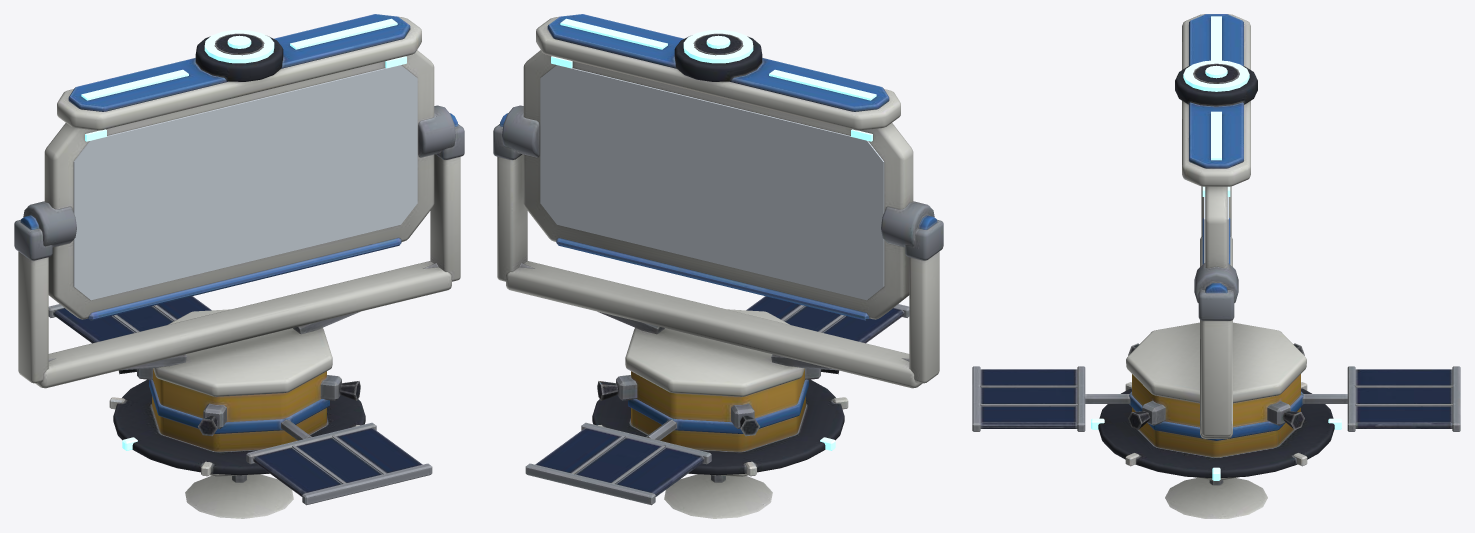
File: sat_mirror.glb
The picture shows the model from 3 angles, left to right: view 1: azimuth 30°, elevation 25°; view 2: azimuth 150°, elevation 25°; view 3: azimuth 270°, elevation 25°; orthographic projection. The views are drawn at different scales.
Visible parts, largest first — view 1: sat_mirror, sat_mirror_glow; view 2: sat_mirror, sat_mirror_glow; view 3: sat_mirror, sat_mirror_glow.
Boxes of the visible parts, bbox=[...] form: sat_mirror: bbox=[14, 14, 464, 518]; sat_mirror_glow: bbox=[73, 18, 417, 450]; sat_mirror: bbox=[493, 14, 943, 518]; sat_mirror_glow: bbox=[540, 18, 884, 450]; sat_mirror: bbox=[972, 14, 1460, 518]; sat_mirror_glow: bbox=[1091, 16, 1341, 480].
Size of the model in its own units: 3.42 by 3.52 by 3.54.
3 materials, 1 textured.
